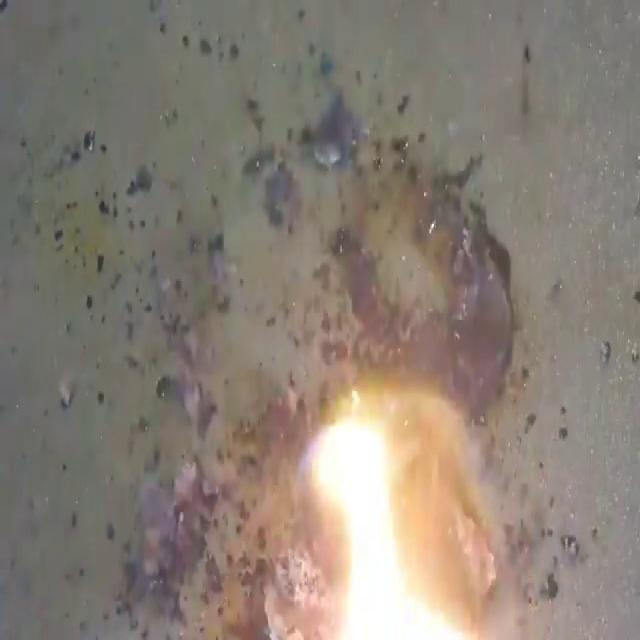Fire: (4, 4, 635, 636), (289, 374, 499, 638)
